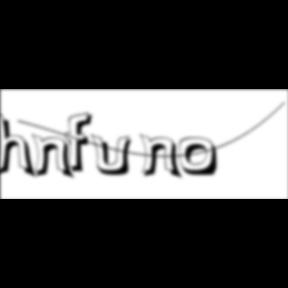f: (66, 111, 100, 175)
h: (1, 108, 40, 182)
n: (31, 132, 78, 181), (140, 132, 186, 181)
o: (179, 137, 221, 179)
u: (91, 132, 139, 178)
